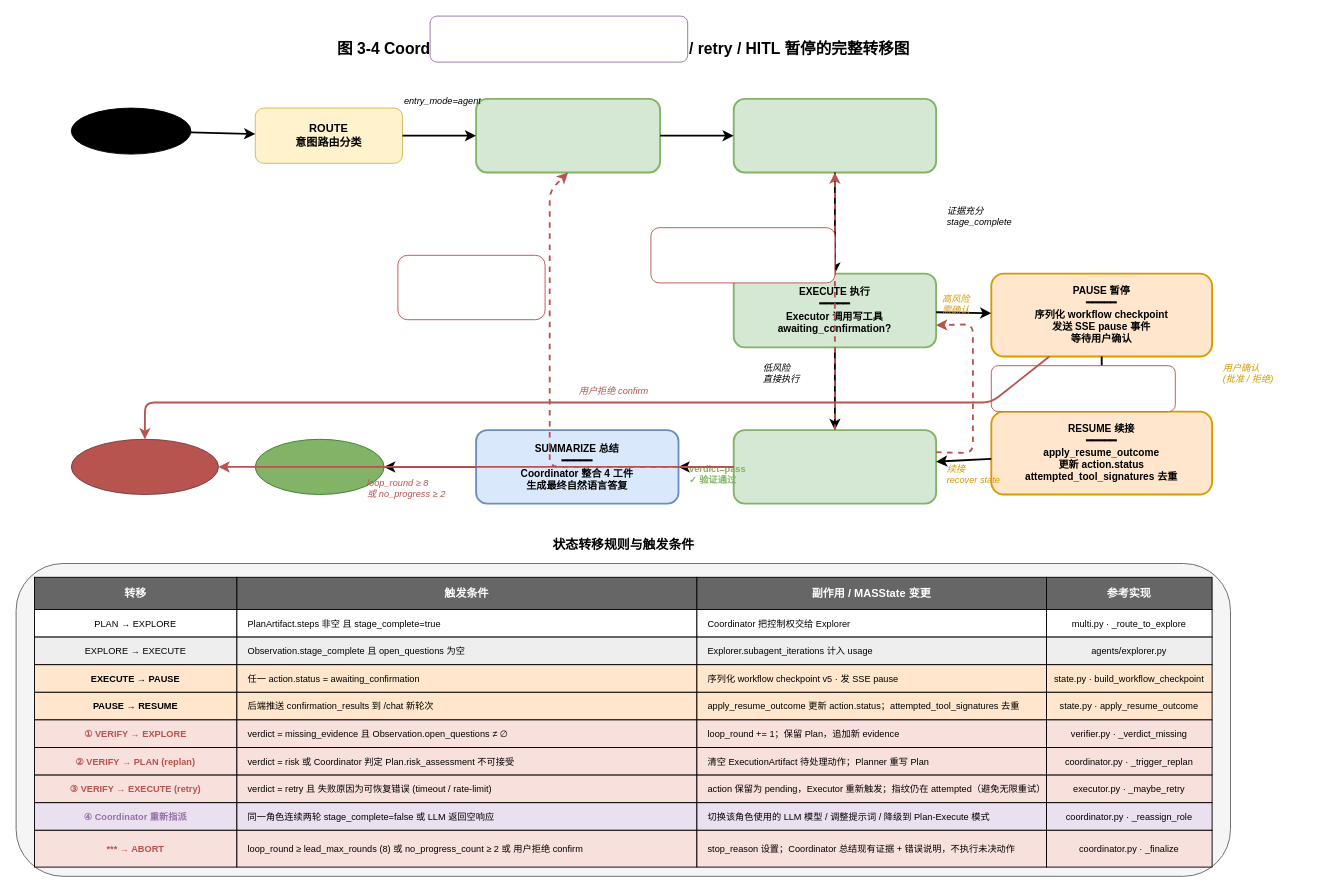
The diagram is 1329 pixels wide and 892 high, and some of its shapes have lost their labels. The box of each missing label's shape, as (x1, y1, x2, y2) in pixels:
EXPLORE 探索 ━━━━━ Explorer 迭代调用只读工具 追加 evidence / facts: (732, 98, 937, 173)
PLAN 规划 ━━━━━ Planner 写 PlanArtifact risk_assessment 标注: (475, 98, 661, 173)
VERIFY 验证 ━━━━━ Verifier 判定 pass / missing / risk / retry: (732, 429, 937, 504)
① 补充探索 verdict = missing_evidence （证据不足 / open_question 未解决）: (650, 227, 835, 283)
② replan verdict = risk （计划本身存在风险， 需重新拆解）: (397, 254, 545, 320)
③ retry verdict = retry （可恢复错误 / 工具临时失败）: (990, 365, 1175, 412)
④ 重新指派 reassign Coordinator 检测到 Planner 产出无效 → 切换模型 或换为 Plan-Execute 编排: (429, 15, 688, 62)
● ABORT 中止 返回错误 / 拒绝原因: (70, 438, 218, 494)
● END 终止 审计落库: (254, 438, 384, 494)
● INIT 初始化: (70, 107, 191, 154)
